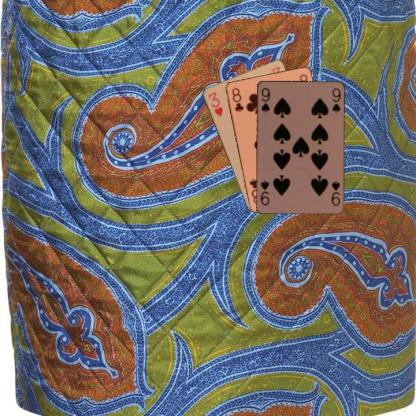3h: (206, 90, 224, 117)
8c: (229, 85, 244, 113)
9s: (329, 178, 341, 207), (259, 85, 271, 113)
